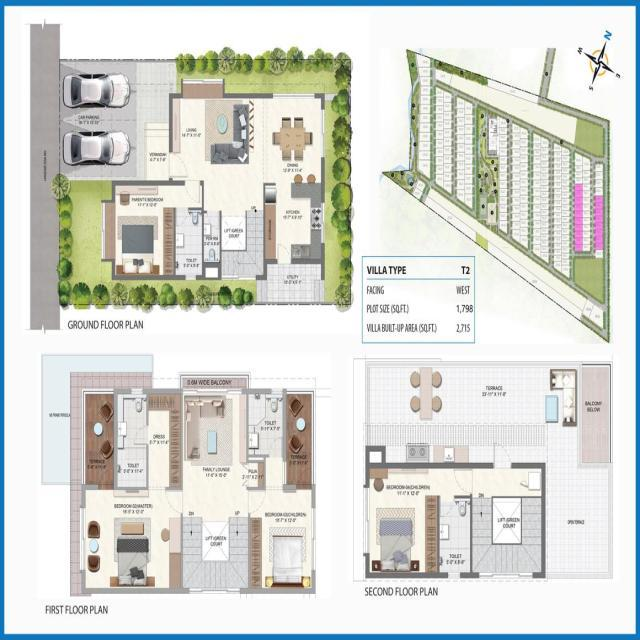Balcony-Sitout: (581, 363, 612, 466)
Bedroom: (83, 487, 183, 595), (364, 461, 437, 580), (247, 489, 316, 594)
Bedroom with Toilet: (110, 181, 176, 281)
Dining: (271, 109, 318, 170)
Dress: (148, 389, 183, 490)
Kitchen: (263, 182, 325, 263)
Living: (167, 92, 257, 185), (181, 387, 248, 488)
Toilet: (113, 388, 148, 489), (436, 496, 472, 577), (249, 389, 287, 461), (174, 207, 204, 279), (202, 210, 222, 265)
Utility: (264, 259, 326, 305)
